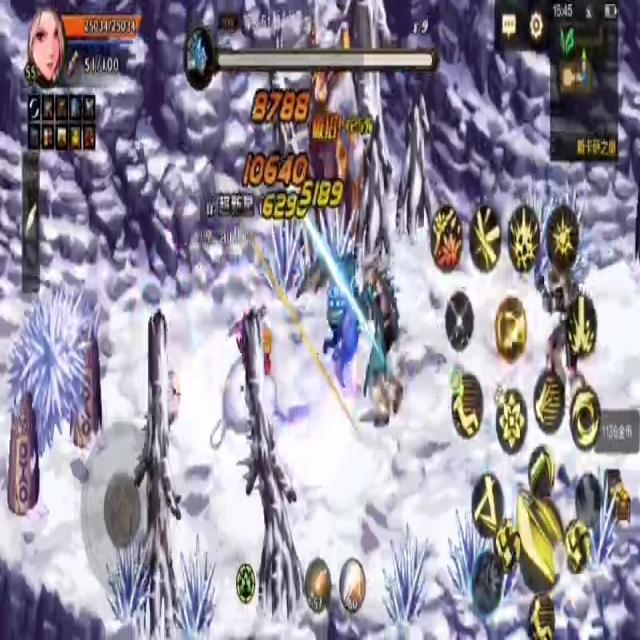player: (212, 314, 280, 459)
